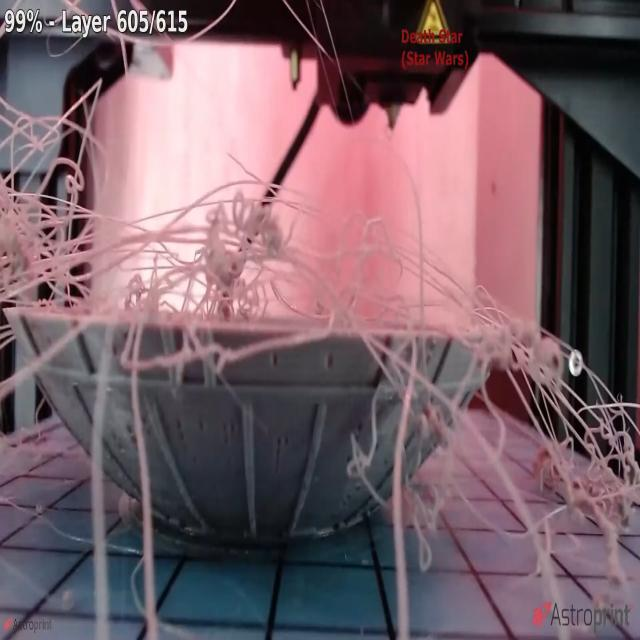spaghetti: (2, 4, 640, 640)
